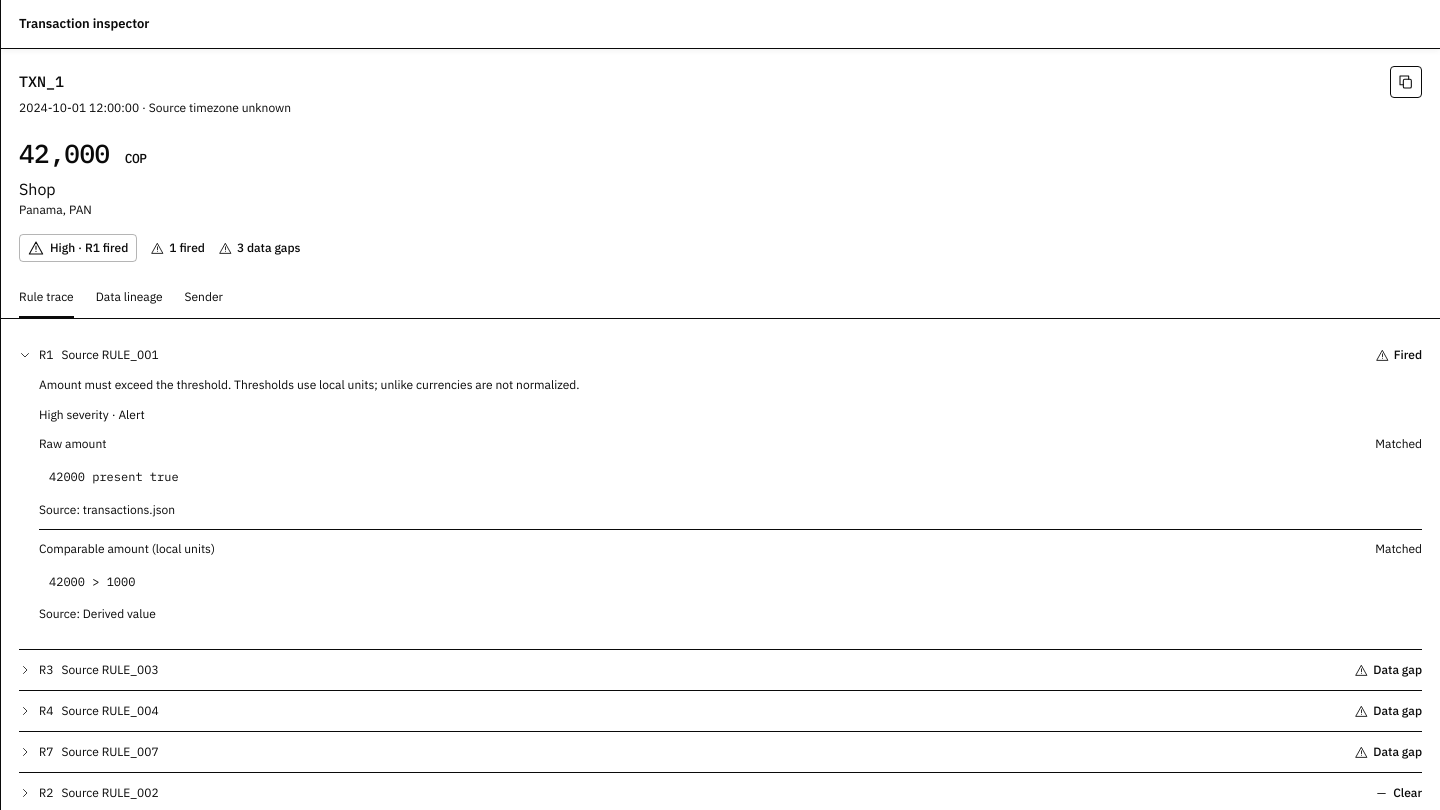
Test: forensic inspector › disables sender filtering for a missing sender, and exposes loading instead of old evidence
Later steps or results of the test are not shown.
Click the tab "Sender" at (204, 298), box left=185, top=278, right=223, bottom=318
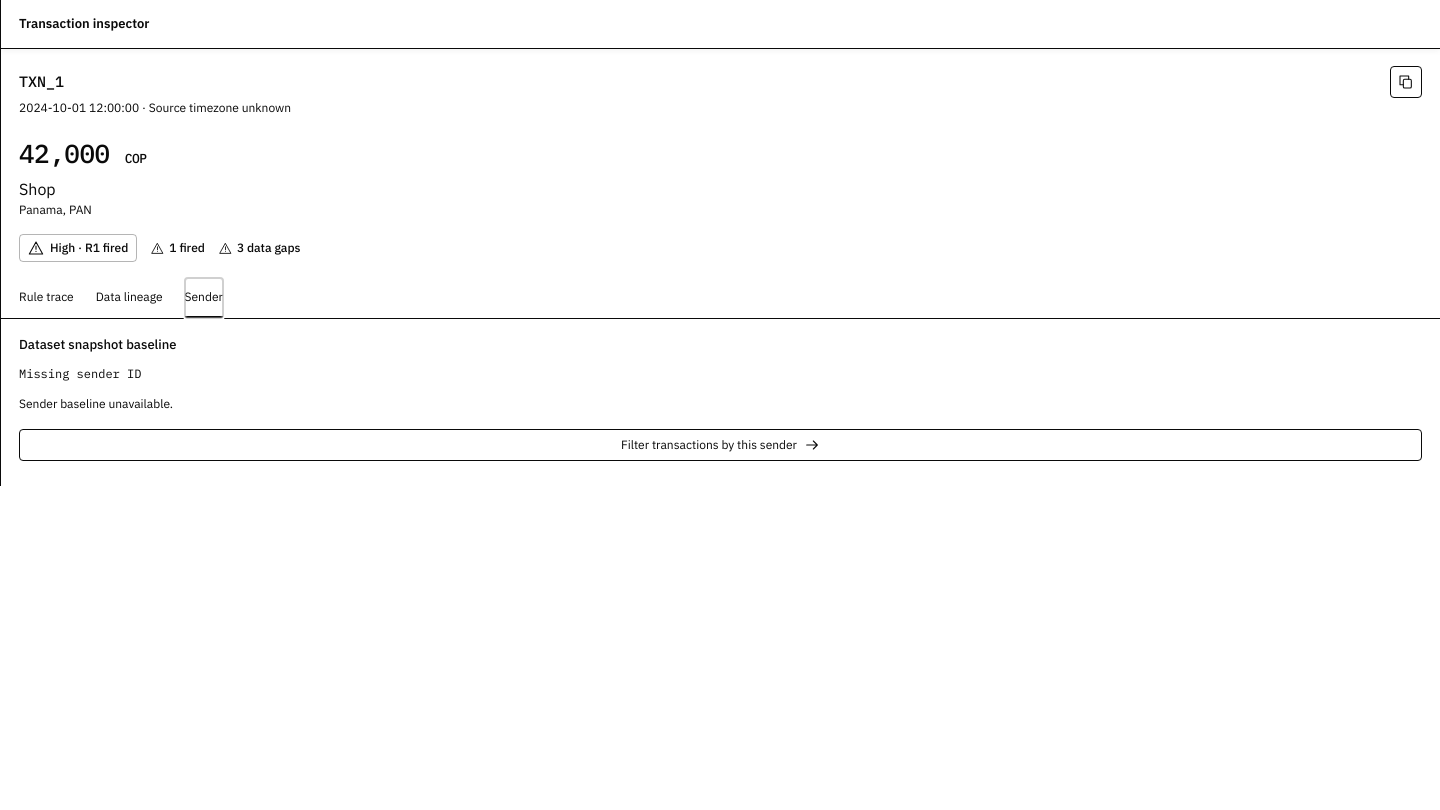
Check: the button "Filter transactions by this sender" is disabled, box left=19, top=428, right=1422, bottom=460
